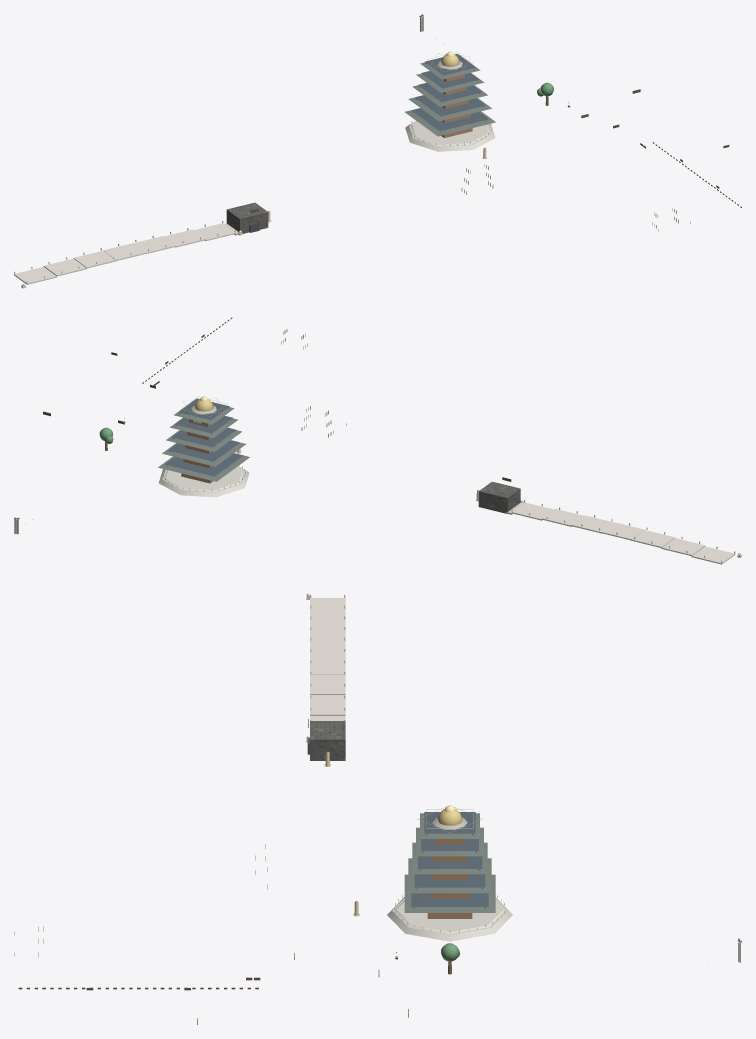
File: tile_1500_-1000.glb
The picture shows the model from 3 angles, top to bottom: view 1: azimuth 30°, elevation 25°; view 2: azimuth 150°, elevation 25°; view 3: azimuth 270°, elevation 25°; orthographic projection. The views are drawn at different scales.
Parts seen in each view (by area): view 1: tile; view 2: tile; view 3: tile.
Boxes of the visible parts, bbox=[...] form: tile: bbox=[14, 14, 741, 288]; tile: bbox=[14, 317, 741, 564]; tile: bbox=[14, 593, 741, 1024].
Bounding box in the file's own units: 467 × 54.18 × 327.
39 materials, 1 textured.
